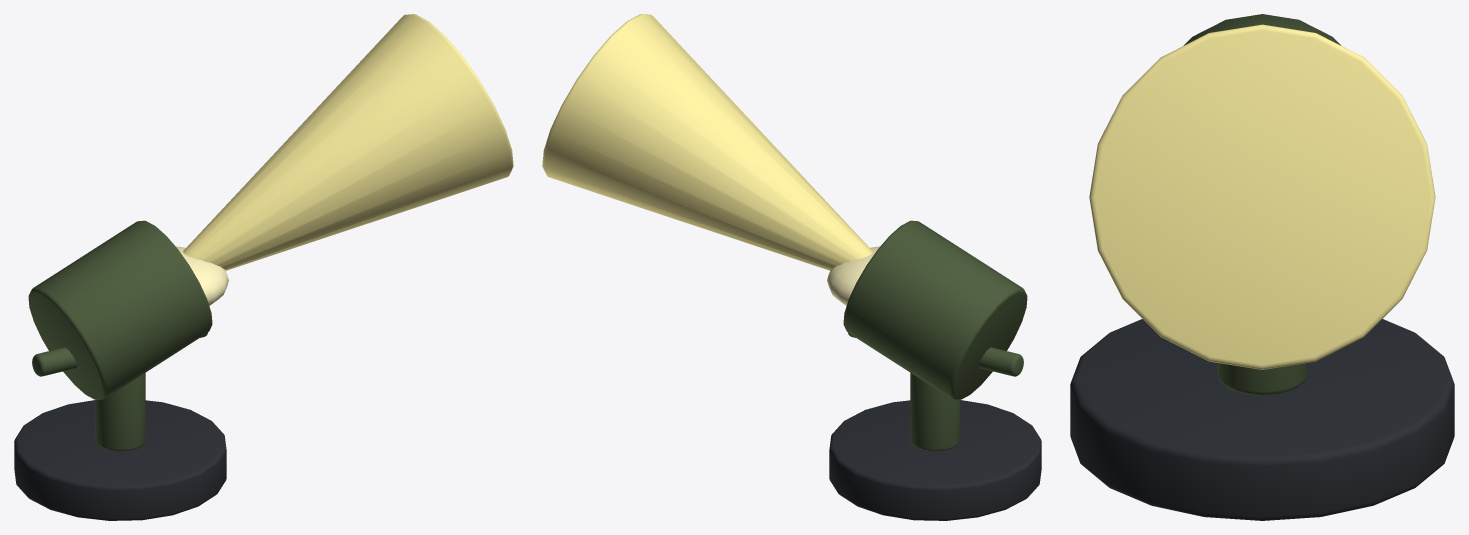
File: searchlight.glb
3 renders of one model, left to right at view 1: azimuth 30°, elevation 25°; view 2: azimuth 150°, elevation 25°; view 3: azimuth 270°, elevation 25°, orthographic. The views are drawn at different scales.
Visible parts, largest first — view 1: searchlight; view 2: searchlight; view 3: searchlight.
Boxes of the visible parts, x1,y1,x2,y2 form: searchlight: (14, 14, 513, 520); searchlight: (542, 14, 1041, 520); searchlight: (1070, 14, 1454, 520).
Bounding box in the file's own units: 2.73 × 2.17 × 1.1.
